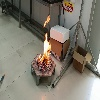fire: (38, 32, 51, 67), (43, 14, 50, 28)
